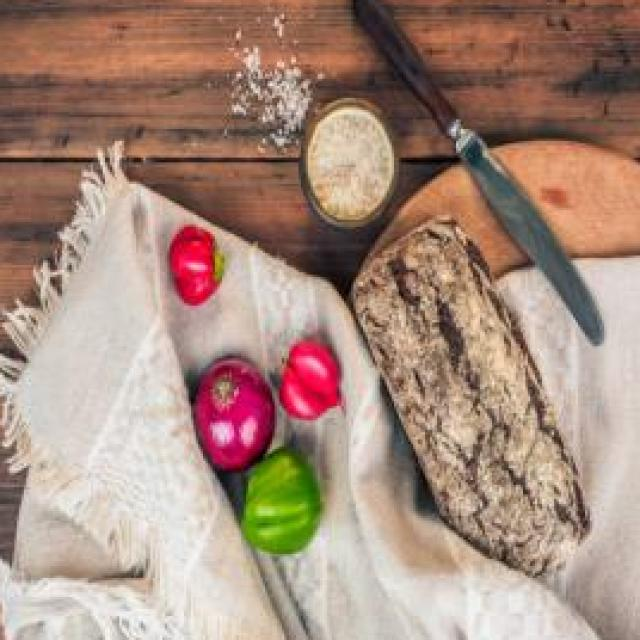knife: (346, 0, 602, 358)
